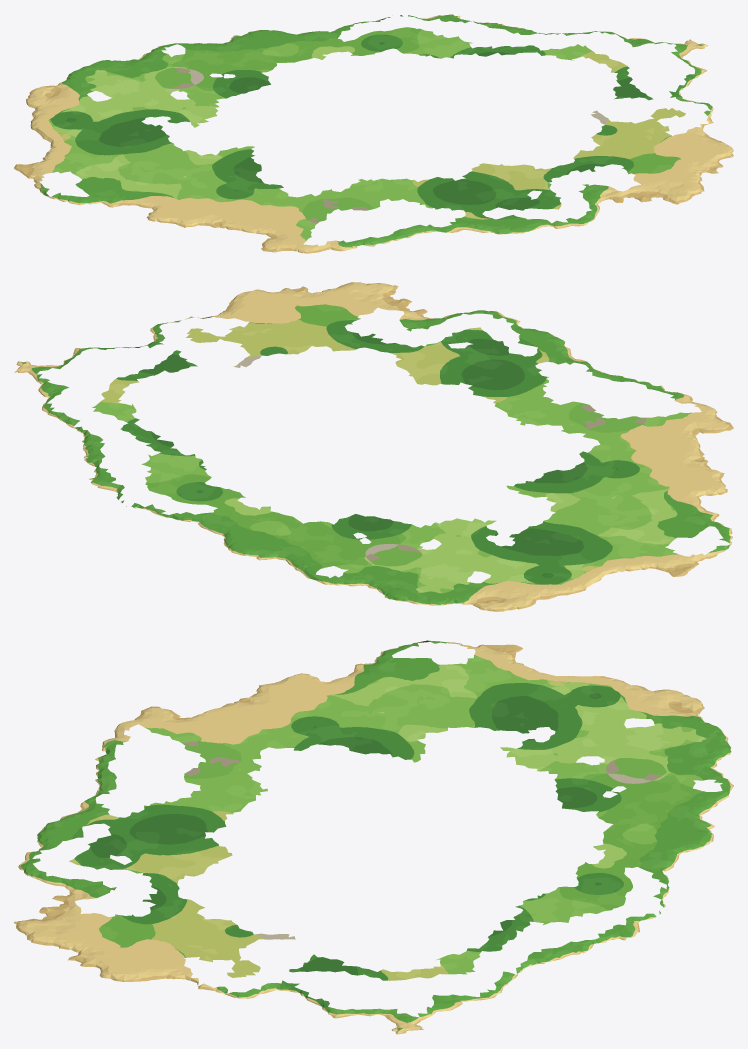
The model's file is Isl-hilly1-Ground.fbx.
3 renders of one model, top to bottom at view 1: azimuth 30°, elevation 25°; view 2: azimuth 150°, elevation 25°; view 3: azimuth 270°, elevation 25°, orthographic. The views are drawn at different scales.
Parts seen in each view (by area): view 1: Isl-hilly1-Ground-c12, Isl-hilly1-Ground-c11, Isl-hilly1-Ground-c21, Isl-hilly1-Ground-c22, Isl-hilly1-Ground-c02, Isl-hilly1-Ground-c01, Isl-hilly1-Ground-c20, Isl-hilly1-Ground-c31; view 2: Isl-hilly1-Ground-c12, Isl-hilly1-Ground-c11, Isl-hilly1-Ground-c21, Isl-hilly1-Ground-c22, Isl-hilly1-Ground-c02, Isl-hilly1-Ground-c01, Isl-hilly1-Ground-c20, Isl-hilly1-Ground-c32, Isl-hilly1-Ground-c31; view 3: Isl-hilly1-Ground-c12, Isl-hilly1-Ground-c11, Isl-hilly1-Ground-c21, Isl-hilly1-Ground-c22, Isl-hilly1-Ground-c02, Isl-hilly1-Ground-c01, Isl-hilly1-Ground-c20, Isl-hilly1-Ground-c31, Isl-hilly1-Ground-c32.
Part boxes in pixels (x1,y1,x2,y2): Isl-hilly1-Ground-c12: (26, 31, 297, 179); Isl-hilly1-Ground-c11: (121, 149, 520, 253); Isl-hilly1-Ground-c21: (461, 60, 733, 224); Isl-hilly1-Ground-c22: (255, 14, 612, 63); Isl-hilly1-Ground-c02: (14, 116, 125, 198); Isl-hilly1-Ground-c01: (54, 180, 184, 227); Isl-hilly1-Ground-c20: (521, 182, 704, 231); Isl-hilly1-Ground-c31: (671, 42, 713, 116); Isl-hilly1-Ground-c12: (238, 485, 656, 611); Isl-hilly1-Ground-c11: (466, 333, 733, 521); Isl-hilly1-Ground-c21: (109, 286, 534, 389); Isl-hilly1-Ground-c22: (49, 388, 287, 554); Isl-hilly1-Ground-c02: (554, 520, 731, 595); Isl-hilly1-Ground-c01: (657, 473, 732, 540); Isl-hilly1-Ground-c20: (337, 282, 539, 334); Isl-hilly1-Ground-c32: (14, 367, 68, 414); Isl-hilly1-Ground-c31: (16, 321, 177, 371); Isl-hilly1-Ground-c12: (410, 680, 733, 837); Isl-hilly1-Ground-c11: (47, 680, 413, 836); Isl-hilly1-Ground-c21: (47, 834, 413, 990); Isl-hilly1-Ground-c22: (410, 834, 713, 991); Isl-hilly1-Ground-c02: (410, 640, 627, 684); Isl-hilly1-Ground-c01: (263, 643, 413, 684); Isl-hilly1-Ground-c20: (14, 835, 55, 945); Isl-hilly1-Ground-c31: (215, 986, 413, 1034); Isl-hilly1-Ground-c32: (410, 987, 501, 1030).
Size of the model in its own units: 135 by 0.4898 by 105.
